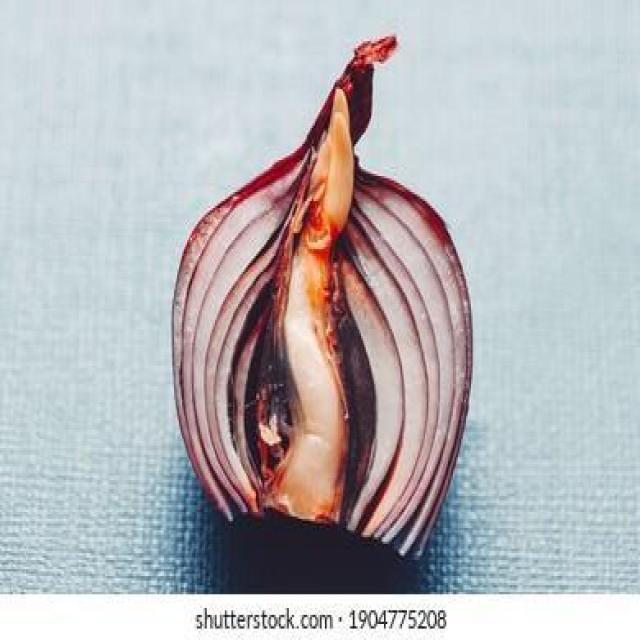Onion: (170, 29, 478, 554)
